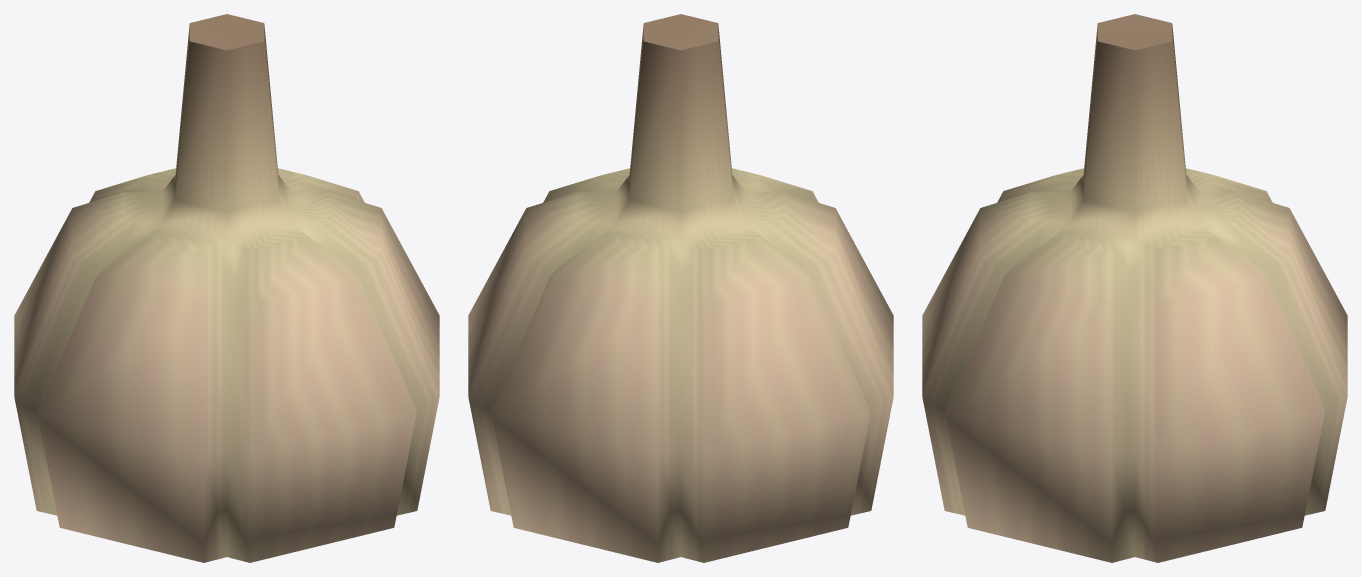
File: Garlic.FBX
The picture shows the model from 3 angles, left to right: view 1: azimuth 30°, elevation 25°; view 2: azimuth 150°, elevation 25°; view 3: azimuth 270°, elevation 25°; orthographic projection.
Visible parts, largest first — view 1: Garlic; view 2: Garlic; view 3: Garlic.
Boxes of the visible parts, x1=… form: Garlic: x1=14, y1=14, x2=439, y2=562; Garlic: x1=468, y1=14, x2=893, y2=562; Garlic: x1=922, y1=14, x2=1347, y2=562.
Bounding box in the file's own units: 6.18 × 6.8 × 5.66.
Materials: 1 (1 with a texture image).
